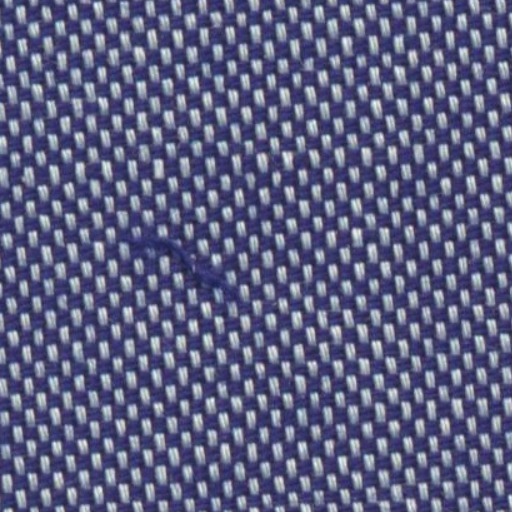DuanSha: (117, 204, 246, 306)
